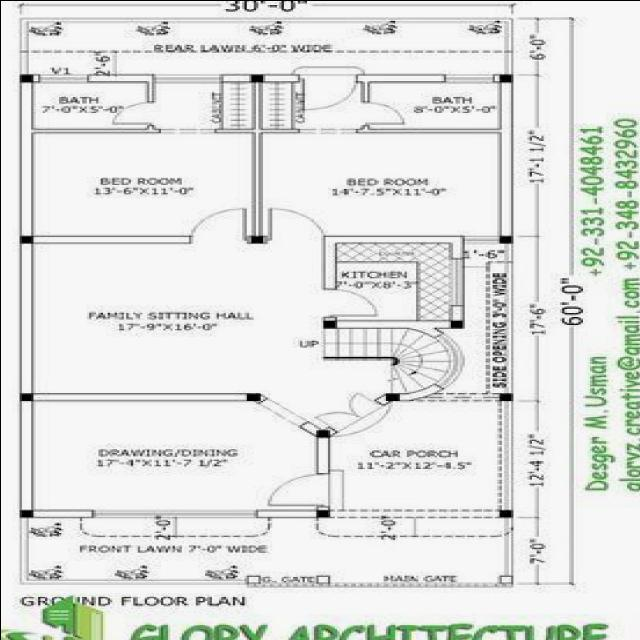Blueprint: (2, 68, 524, 522)
column: (15, 391, 36, 402), (243, 390, 262, 402), (246, 72, 266, 82), (246, 234, 266, 244), (312, 428, 332, 438), (382, 391, 402, 401), (496, 391, 516, 401), (494, 508, 514, 518), (16, 508, 36, 518), (496, 72, 514, 83), (496, 233, 515, 243), (445, 318, 464, 328), (17, 234, 35, 244), (320, 318, 338, 328), (17, 73, 34, 83), (315, 508, 331, 518)
wall: (15, 240, 36, 394), (16, 80, 36, 238), (28, 391, 248, 404), (496, 78, 514, 236), (249, 77, 265, 237), (16, 398, 36, 512), (28, 232, 195, 244), (352, 122, 514, 134), (318, 232, 466, 245), (332, 317, 453, 329), (16, 125, 168, 134), (350, 72, 450, 85), (316, 232, 338, 290), (29, 506, 97, 520), (310, 436, 334, 474), (252, 506, 322, 518), (84, 71, 157, 82), (445, 232, 466, 258), (260, 71, 304, 83), (142, 70, 158, 102), (216, 71, 256, 83), (445, 303, 465, 321)
